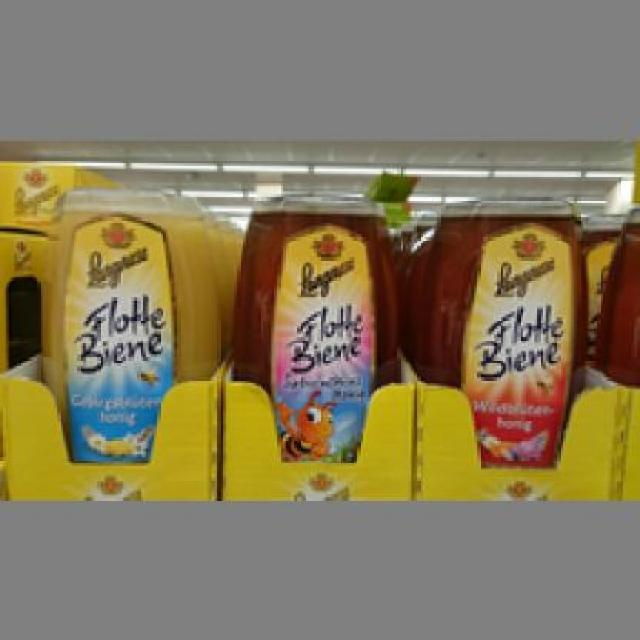Honey: (46, 186, 214, 468), (426, 197, 588, 483), (229, 197, 400, 466)
